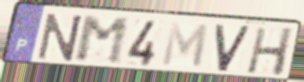4: (124, 18, 158, 68)
H: (244, 27, 296, 78)
M: (74, 15, 131, 66), (159, 20, 210, 70)
N: (35, 12, 86, 63)
V: (214, 23, 254, 74)
